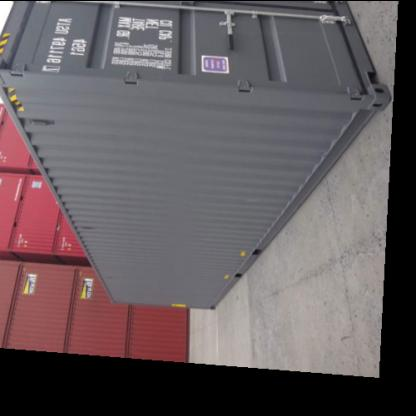Damage: (218, 24, 245, 54), (71, 218, 100, 233), (96, 269, 124, 278)
